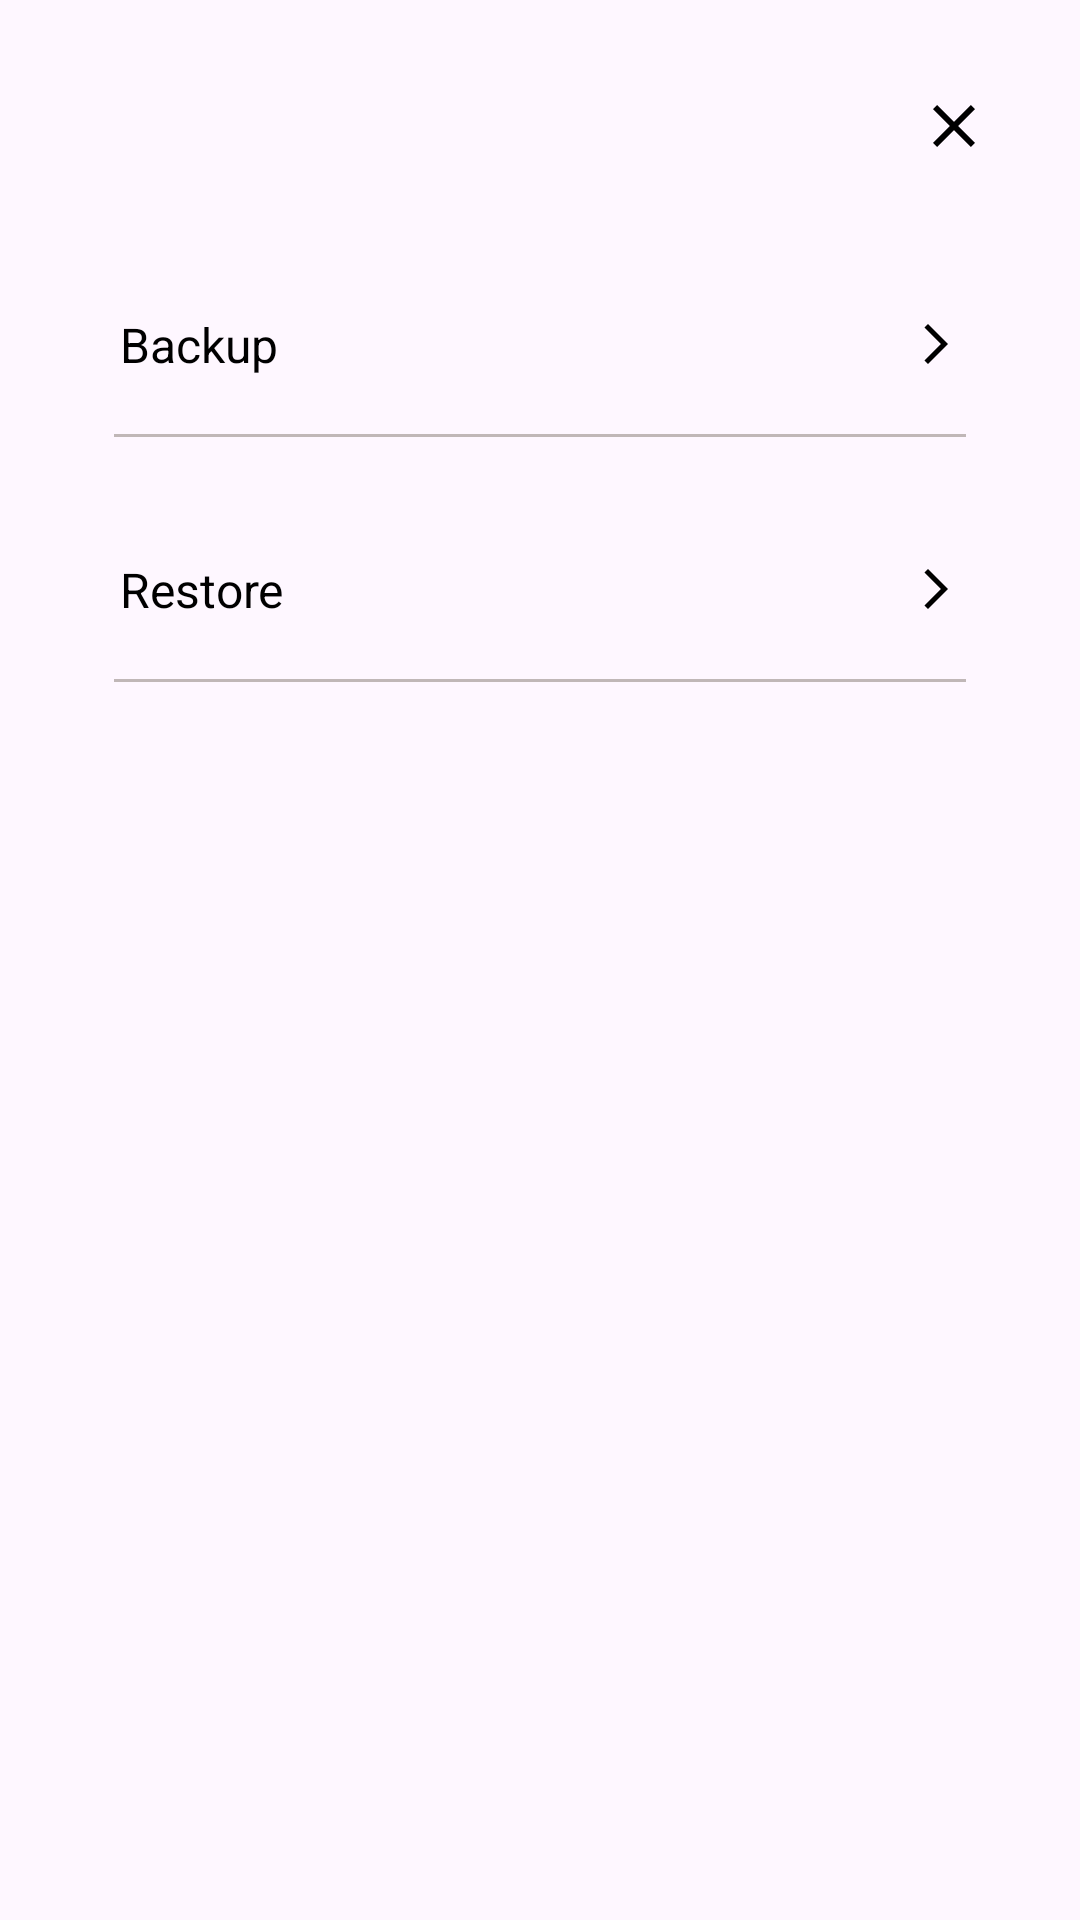

Screen size 1080px×1920px. Icon name, then its box in pixels as (x1, y1, x2, y2):
close: (933, 105, 975, 147)
